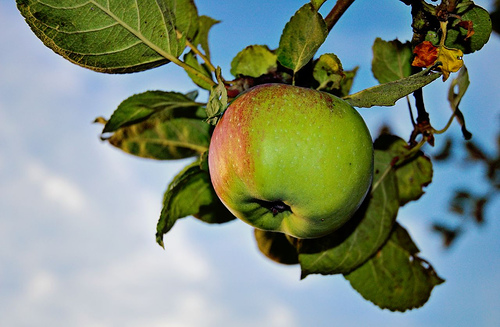apple: (209, 83, 373, 241)
